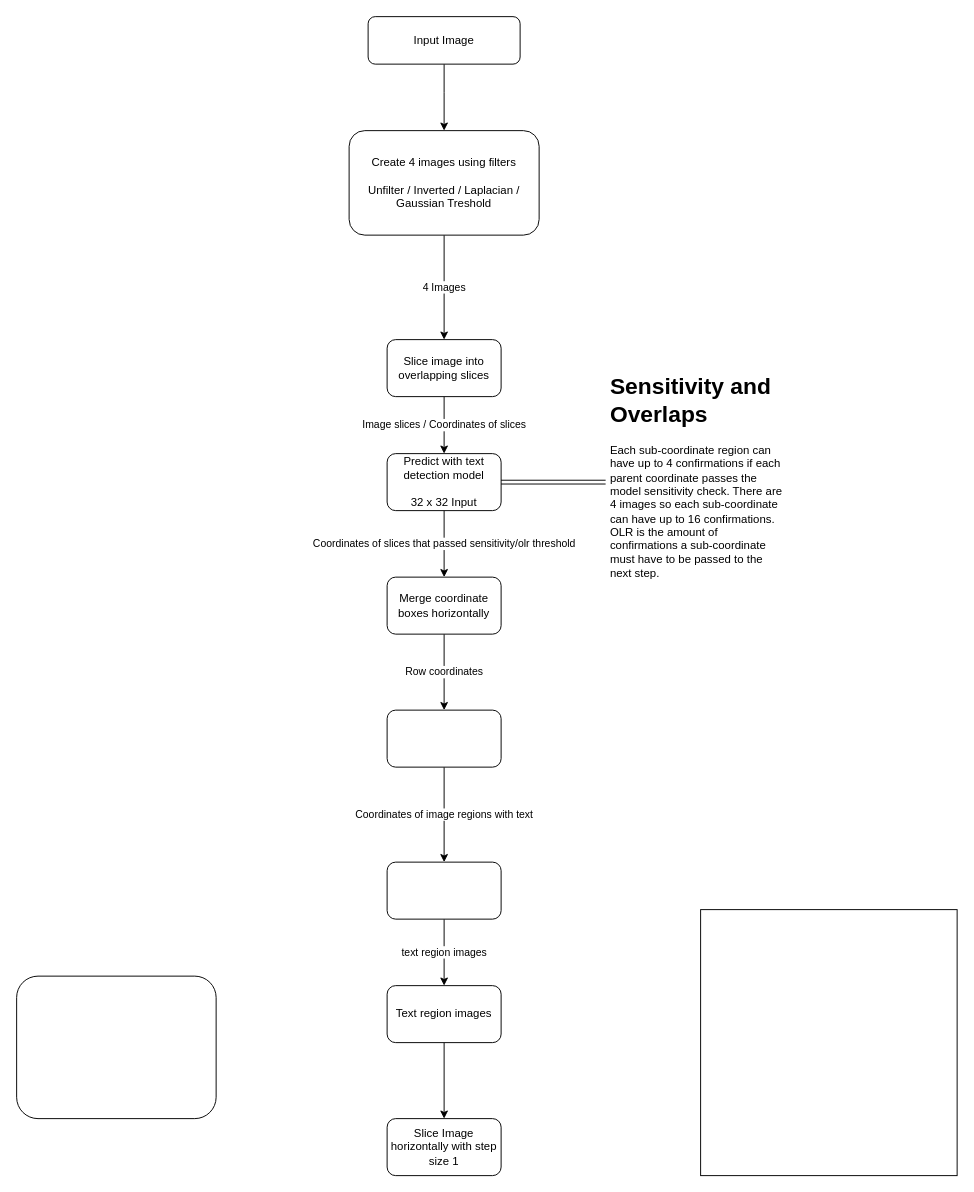
Image size: 974x1192. Some labels were removed from this diagram. The centre of each missing label's shape, as x and y in pixels:
"Merge coordinate boxes vertically" goes at [443,738].
"Predict segmentation with model 32 x 12 Input Standardized Input" goes at [116,1047].
"Slice text regions from original image" goes at [443,890].
